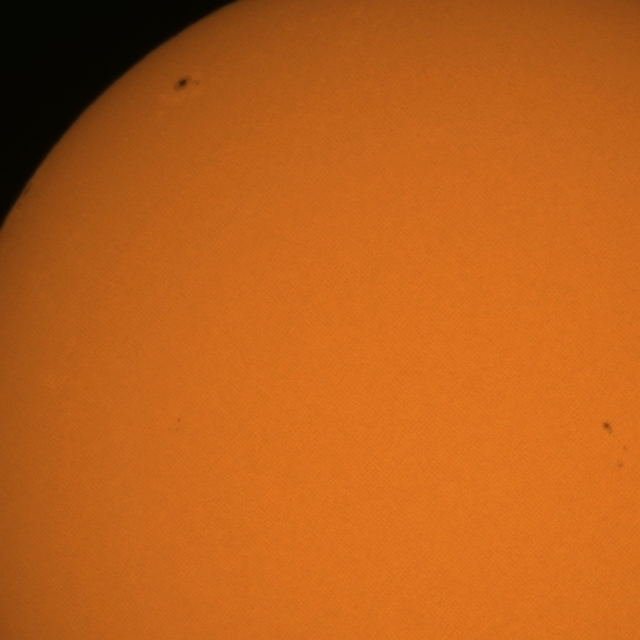sunspot: (173, 75, 201, 93), (602, 420, 614, 436)
